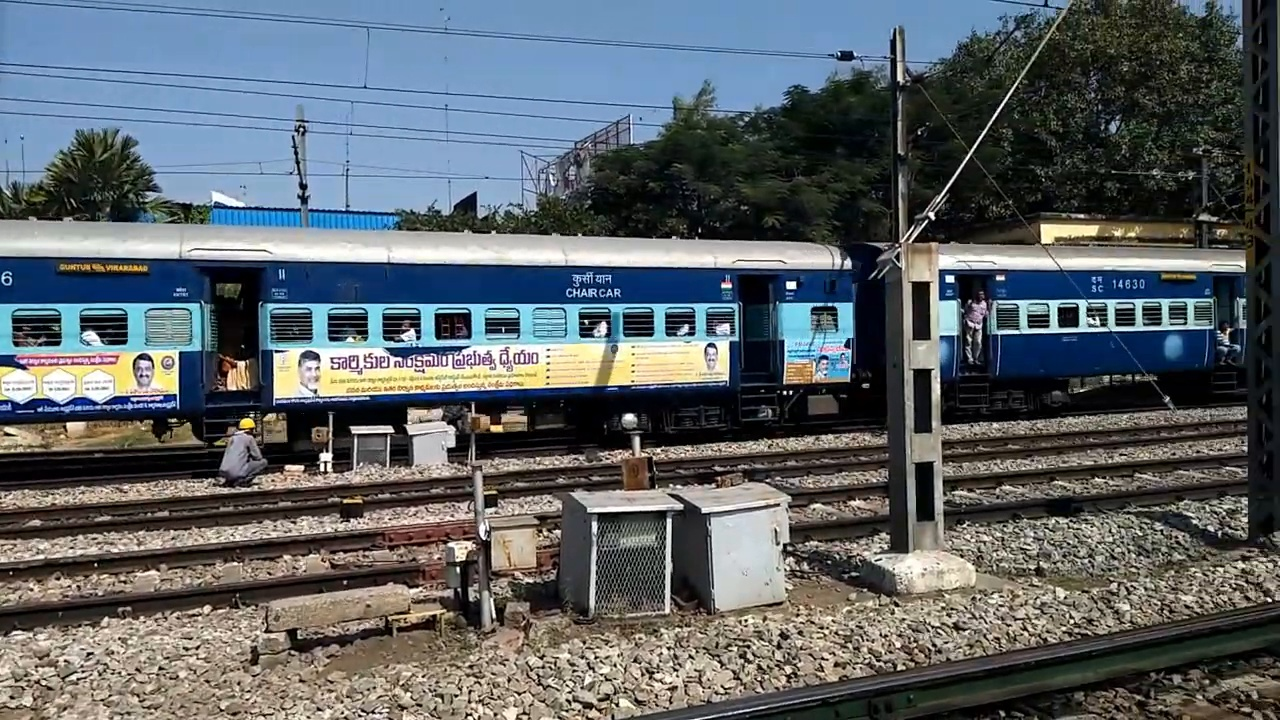Boogie: (1109, 274, 1151, 295)
Car Type: (555, 264, 637, 312)
